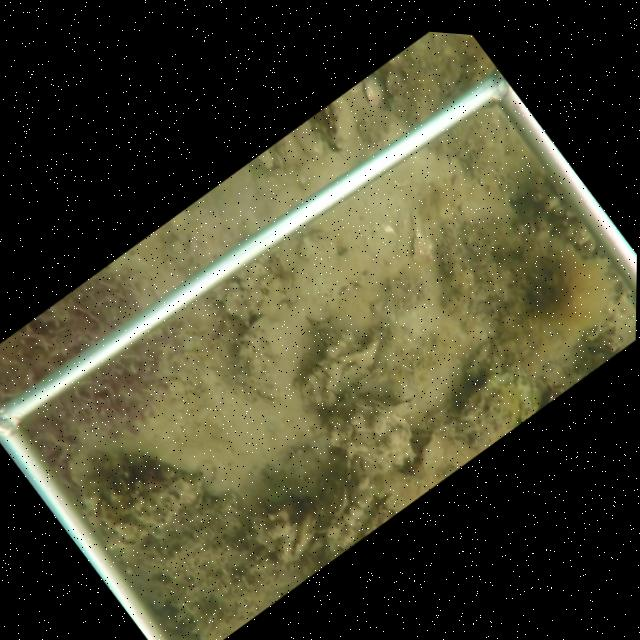Oyster-Closed: (319, 99, 354, 152)
Oyster-Indeterminate: (415, 371, 547, 488), (318, 400, 417, 470), (362, 73, 383, 110)
